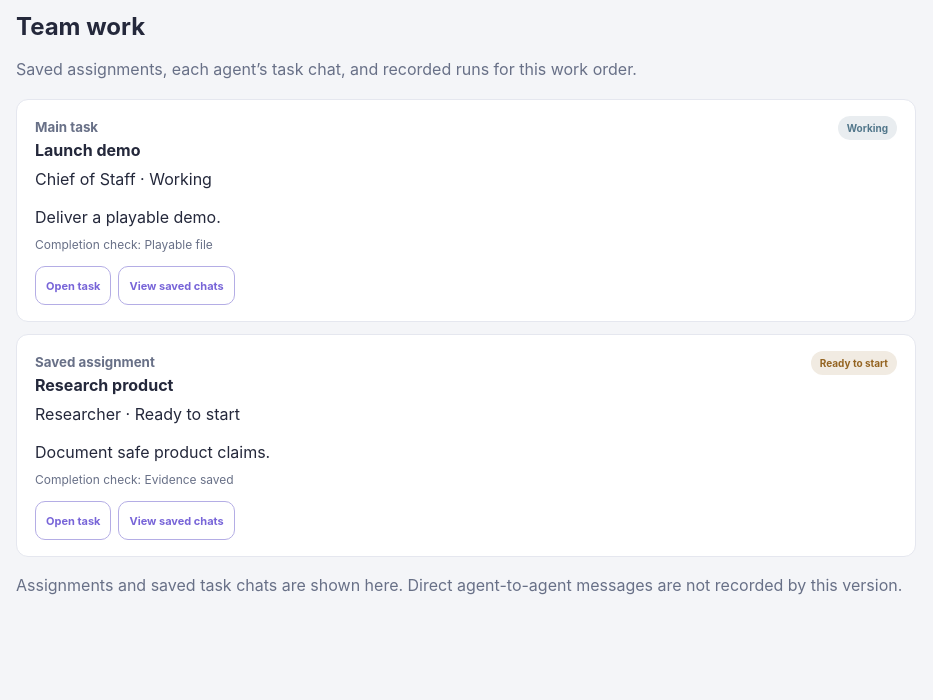
does not present failed chat reads as no agent conversation
The width and height of the screenshot is (933, 700).
Click the button "View saved chats" below "Evidence saved": (176, 520) x1=118 y1=501 x2=235 y2=540
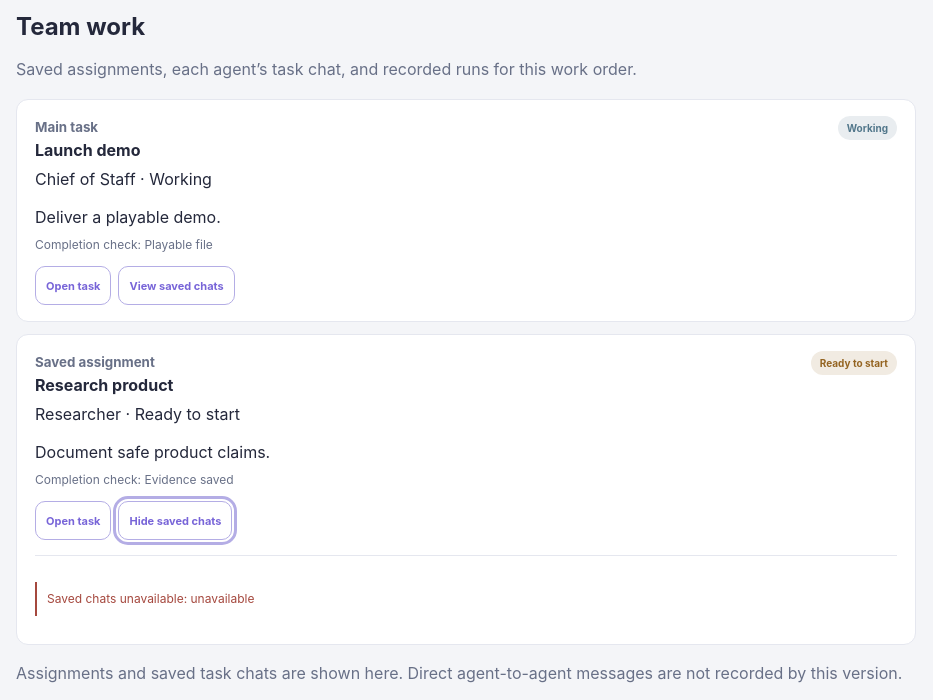
Now the message reads "Saved chats unavailable: unavailable", box x1=47 y1=591 x2=190 y2=606
